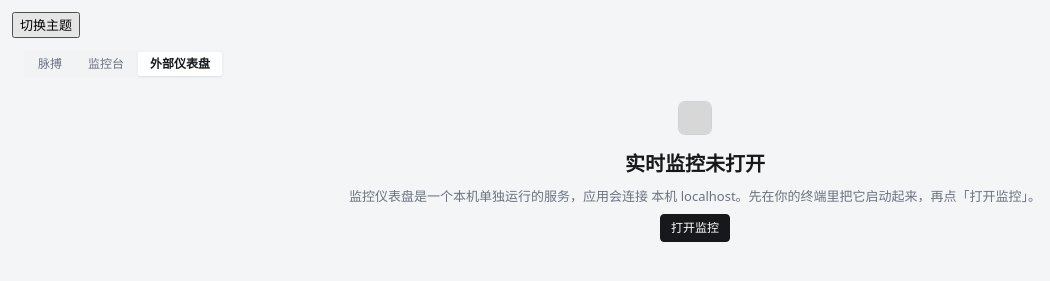
Scenario: MonitorPage › keeps the raw failure string out of the visible copy
Click the button "打开监控": (695, 228) [660,214,730,242]
Wait 2400 ms
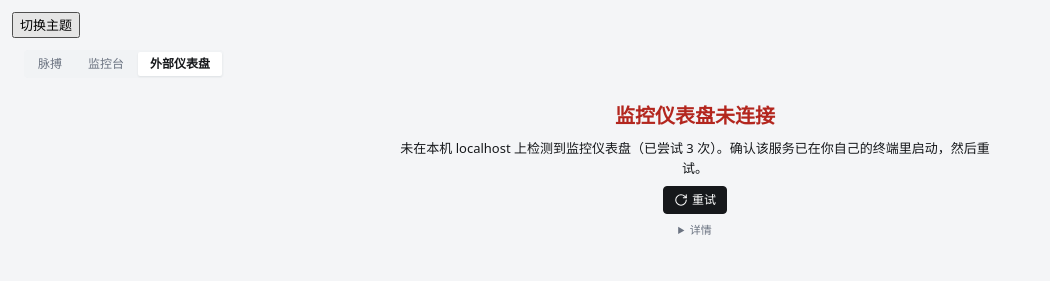
Expected: the message does not show "/Users/"
Click the heading "详情": (701, 230) [690,222,712,237]
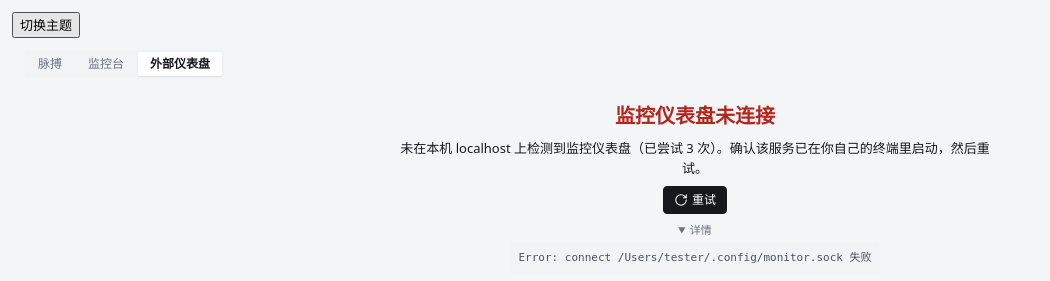
Now the message shows "/Users/tester/.config/monitor.sock", box [518,251,872,264]
